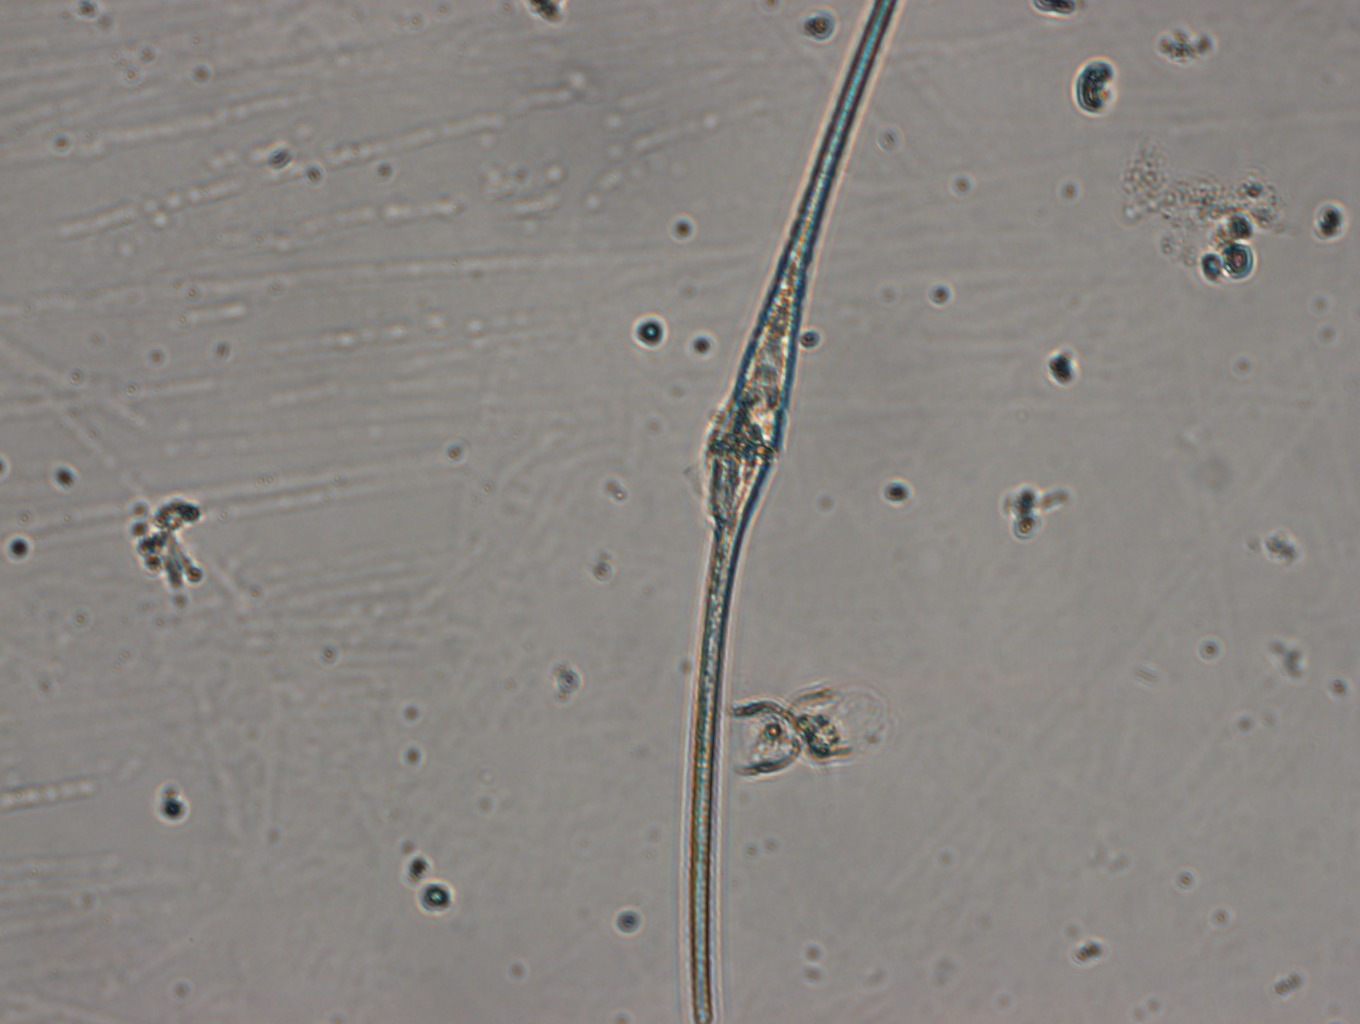ceratium fusus: (682, 1, 903, 1024)
